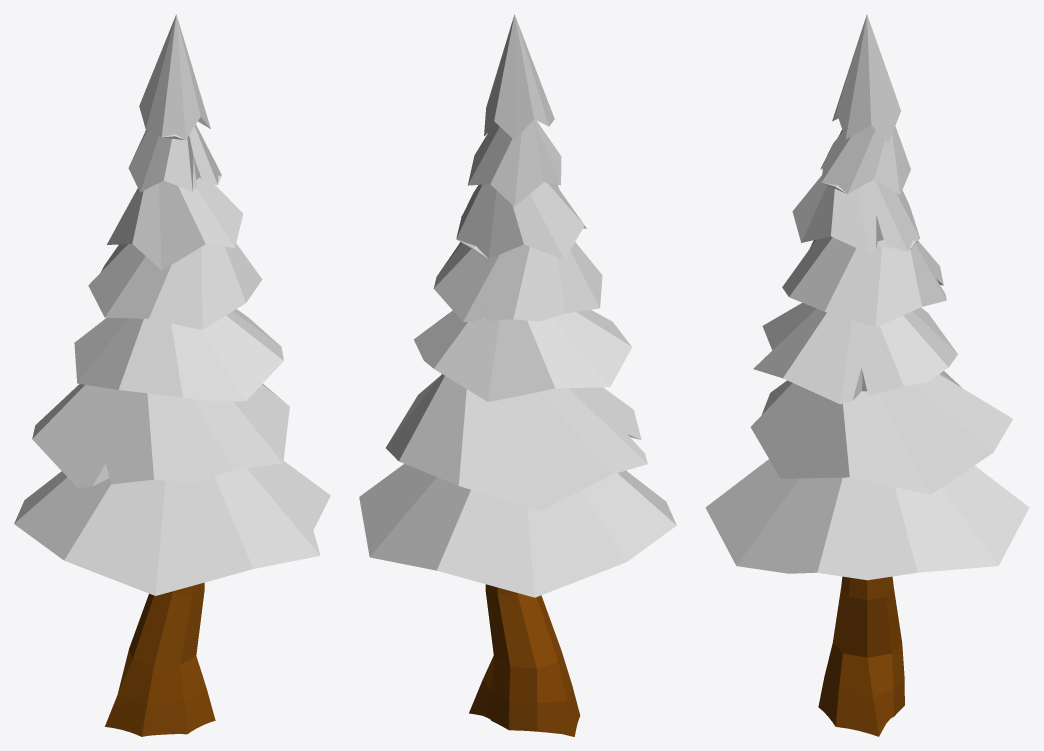
File: sapin2.glb
The picture shows the model from 3 angles, left to right: view 1: azimuth 30°, elevation 25°; view 2: azimuth 150°, elevation 25°; view 3: azimuth 270°, elevation 25°; orthographic projection.
Parts seen in each view (by area): view 1: Cylinder_Material.002_0, Cylinder_Material.001_0; view 2: Cylinder_Material.002_0, Cylinder_Material.001_0; view 3: Cylinder_Material.002_0, Cylinder_Material.001_0.
Boxes of the visible parts, <box> form: Cylinder_Material.002_0: <box>14,14,330,595</box>; Cylinder_Material.001_0: <box>105,582,215,736</box>; Cylinder_Material.002_0: <box>359,14,676,597</box>; Cylinder_Material.001_0: <box>469,584,580,736</box>; Cylinder_Material.002_0: <box>705,14,1029,580</box>; Cylinder_Material.001_0: <box>818,576,904,736</box>.
Size of the model in its own units: 1.36 by 3.42 by 1.43.
1 material, 1 textured.
